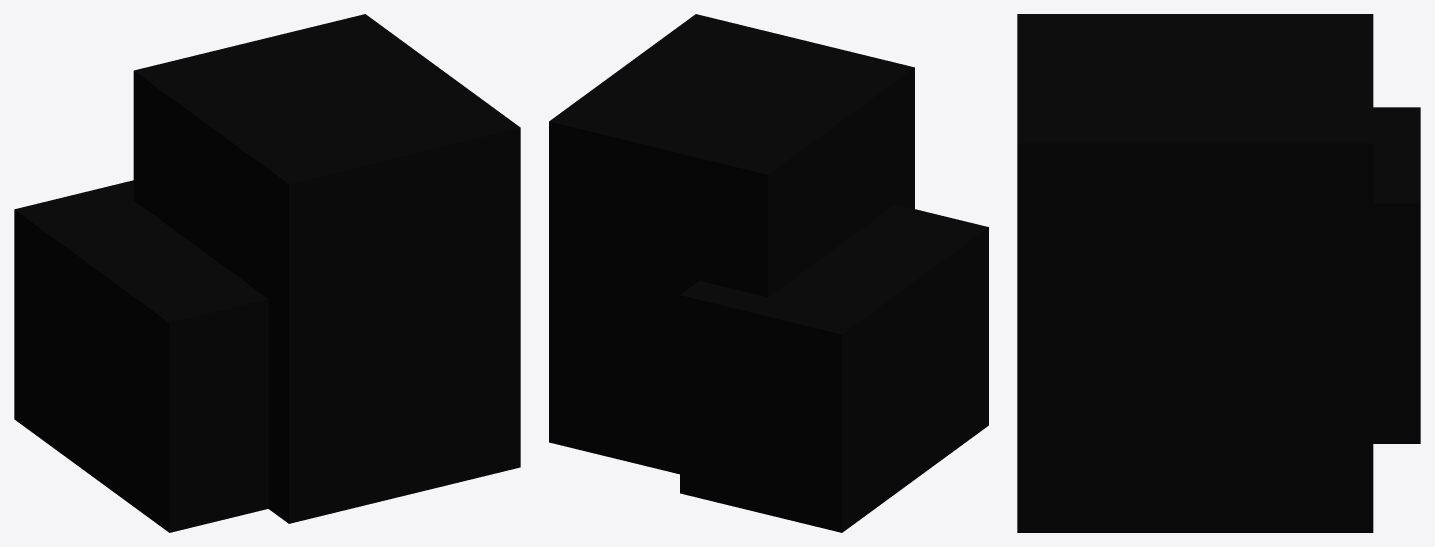
File: SM_BuildingVista_02.fbx
3 renders of one model, left to right at view 1: azimuth 30°, elevation 25°; view 2: azimuth 150°, elevation 25°; view 3: azimuth 270°, elevation 25°, orthographic. The views are drawn at different scales.
Parts seen in each view (by area): view 1: SM_BuildingVista_02; view 2: SM_BuildingVista_02; view 3: SM_BuildingVista_02.
Boxes of the visible parts, <box> form: SM_BuildingVista_02: <box>14,14,520,532</box>; SM_BuildingVista_02: <box>549,14,988,532</box>; SM_BuildingVista_02: <box>1017,14,1420,532</box>.
Bounding box in the file's own units: 25.42 × 24.96 × 23.43.
